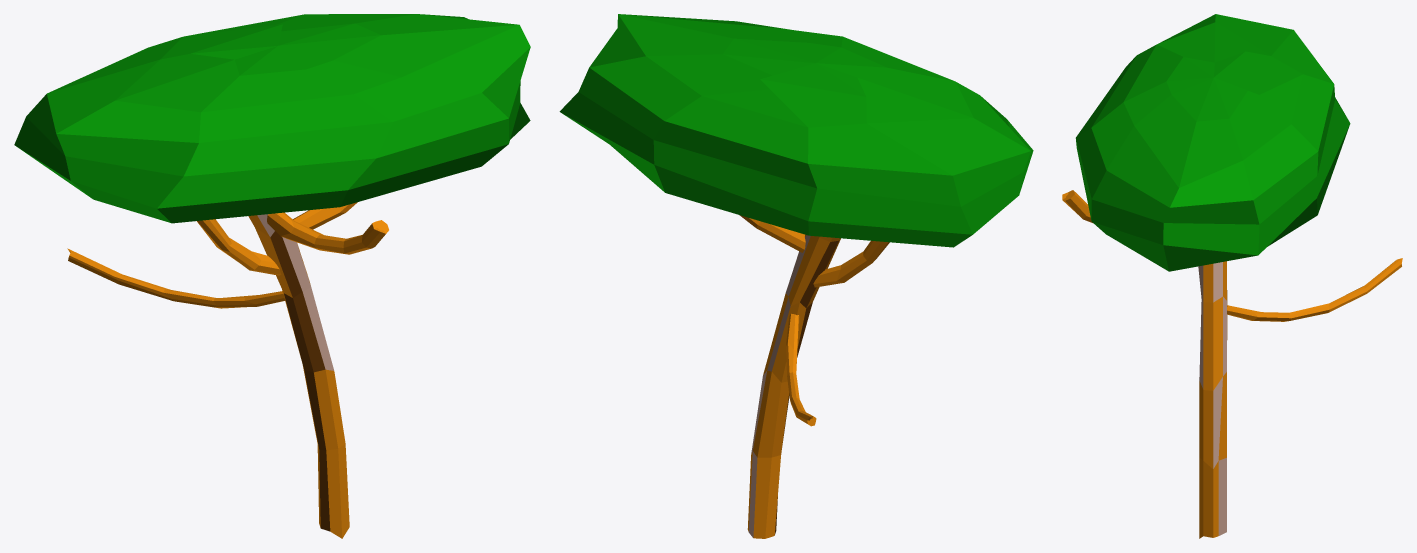
File: Baum2.fbx
3 views of the same model, side by side, from view 1: azimuth 30°, elevation 25°; view 2: azimuth 150°, elevation 25°; view 3: azimuth 270°, elevation 25° (orthographic). The views are drawn at different scales.
Visible parts, largest first — view 1: pSphere1, pCylinder1, pasted__pasted__pCylinder1 (×2), pasted__pCylinder1, pasted__pasted__pasted__pCylinder1; view 2: pSphere1, pCylinder1, pasted__pCylinder1, pasted__pasted__pCylinder1, pasted__pasted__pasted__pCylinder1; view 3: pSphere1, pCylinder1, pasted__pCylinder1, pasted__pasted__pCylinder1.
Boxes of the visible parts, x1,y1,x2,y2 form: pSphere1: (14, 14, 530, 223); pCylinder1: (248, 214, 349, 538); pasted__pasted__pCylinder1 (×2): (197, 212, 388, 275); pasted__pCylinder1: (67, 248, 285, 308); pasted__pasted__pasted__pCylinder1: (293, 202, 357, 229); pSphere1: (559, 14, 1033, 247); pCylinder1: (747, 234, 840, 538); pasted__pCylinder1: (786, 313, 816, 426); pasted__pasted__pCylinder1: (813, 240, 889, 287); pasted__pasted__pasted__pCylinder1: (739, 215, 805, 252); pSphere1: (1075, 14, 1350, 271); pCylinder1: (1198, 261, 1227, 538); pasted__pCylinder1: (1227, 258, 1402, 321); pasted__pasted__pCylinder1: (1062, 190, 1092, 222).
Size of the model in its own units: 5.66 by 5.93 by 4.19.
